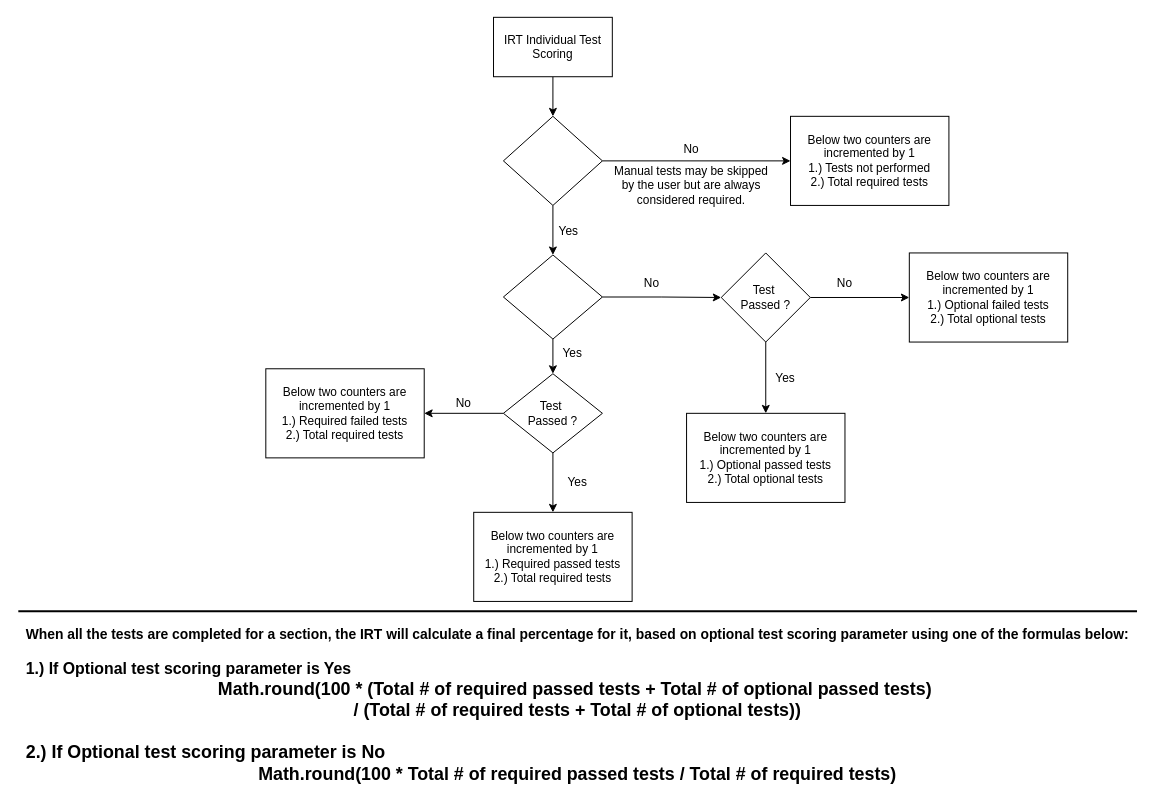
The diagram is 1154 pixels wide and 807 high, and some of its shapes have lost their labels. The centre of each missing label's shape, as x and y in pixels:
"Is Test Required ?" belongs at point 552,296.
"Test Performed ?" belongs at point 552,160.
